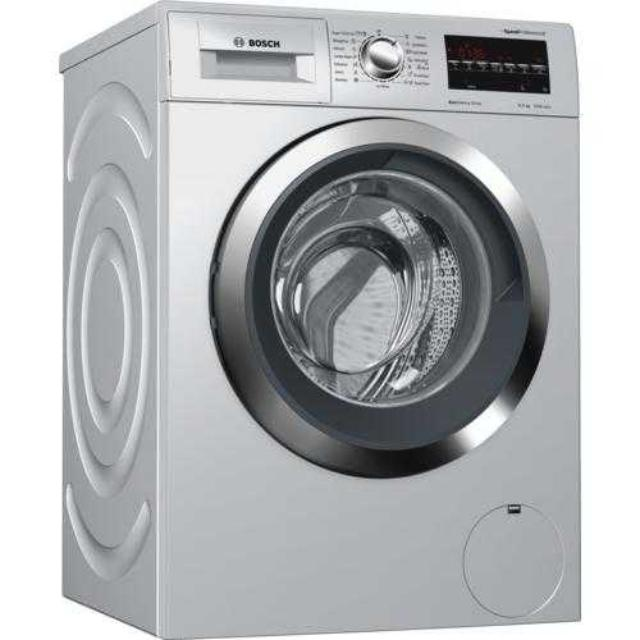Washing-Machine: (63, 0, 583, 620)
